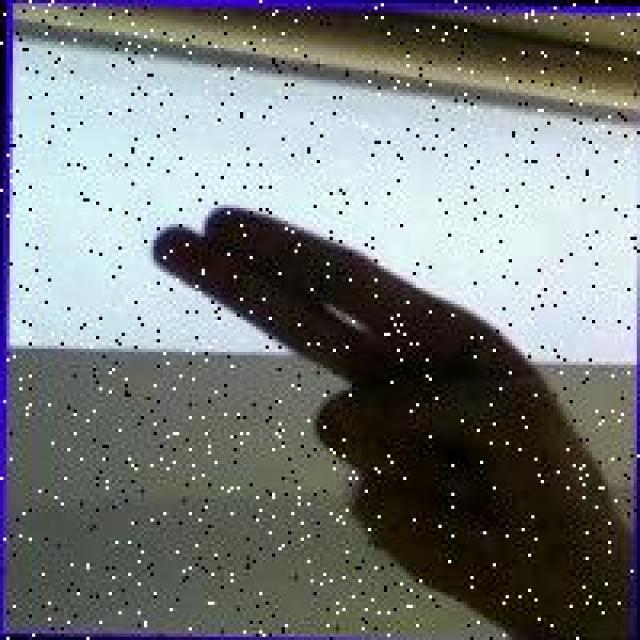H: (142, 195, 604, 608)
